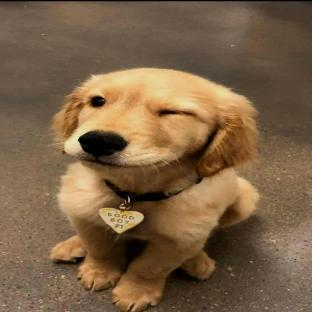Animal: (51, 68, 258, 312)
